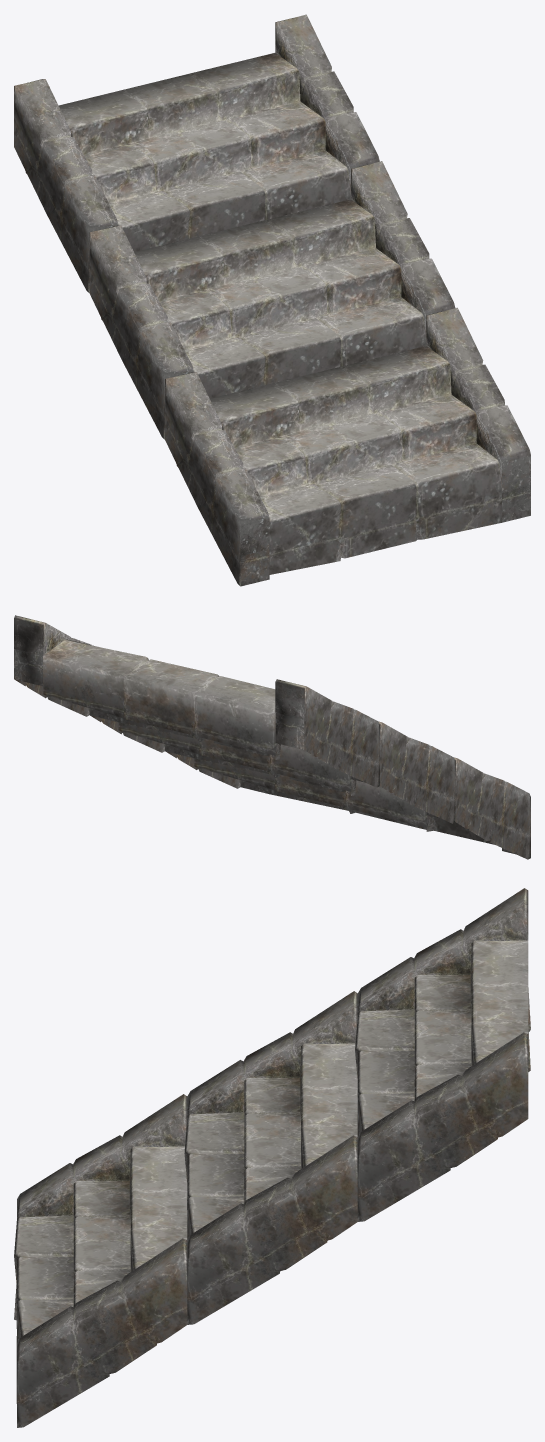
File: stairs.gltf
The picture shows the model from 3 angles, top to bottom: view 1: azimuth 30°, elevation 25°; view 2: azimuth 150°, elevation 25°; view 3: azimuth 270°, elevation 25°; orthographic projection. The views are drawn at different scales.
Parts seen in each view (by area): view 1: polySurface52, polySurface53, polySurface54; view 2: polySurface54, polySurface52, polySurface53; view 3: polySurface54, polySurface52, polySurface53.
Part boxes in pixels (x1=…): polySurface52: x1=165, y1=307, x2=530, y2=586; polySurface53: x1=89, y1=161, x2=455, y2=439; polySurface54: x1=14, y1=14, x2=379, y2=292; polySurface54: x1=14, y1=615, x2=379, y2=787; polySurface52: x1=165, y1=751, x2=530, y2=859; polySurface53: x1=90, y1=715, x2=455, y2=823; polySurface54: x1=355, y1=888, x2=530, y2=1221; polySurface52: x1=14, y1=1094, x2=187, y2=1427; polySurface53: x1=184, y1=991, x2=357, y2=1324.
Size of the model in its own units: 2 by 2.19 by 2.7.
1 material, 1 textured.
